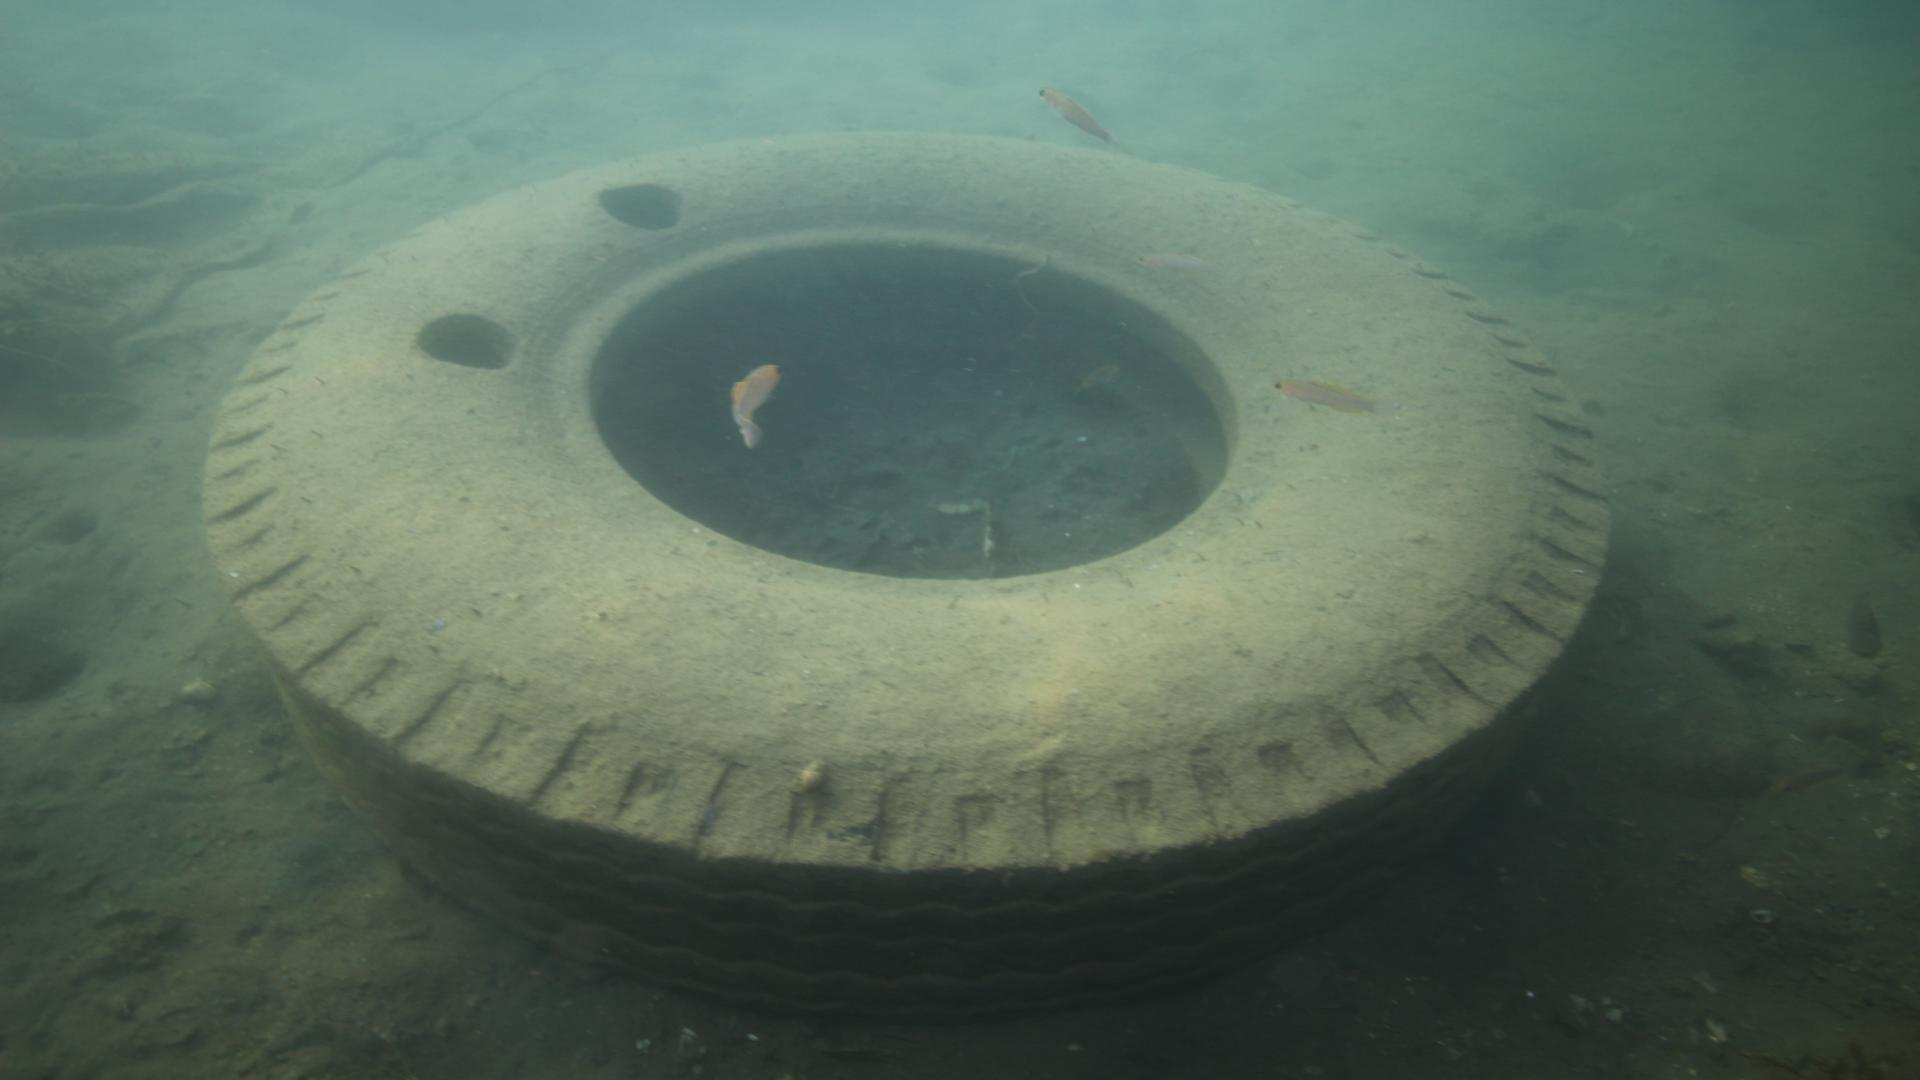tire: (196, 127, 1611, 1027)
